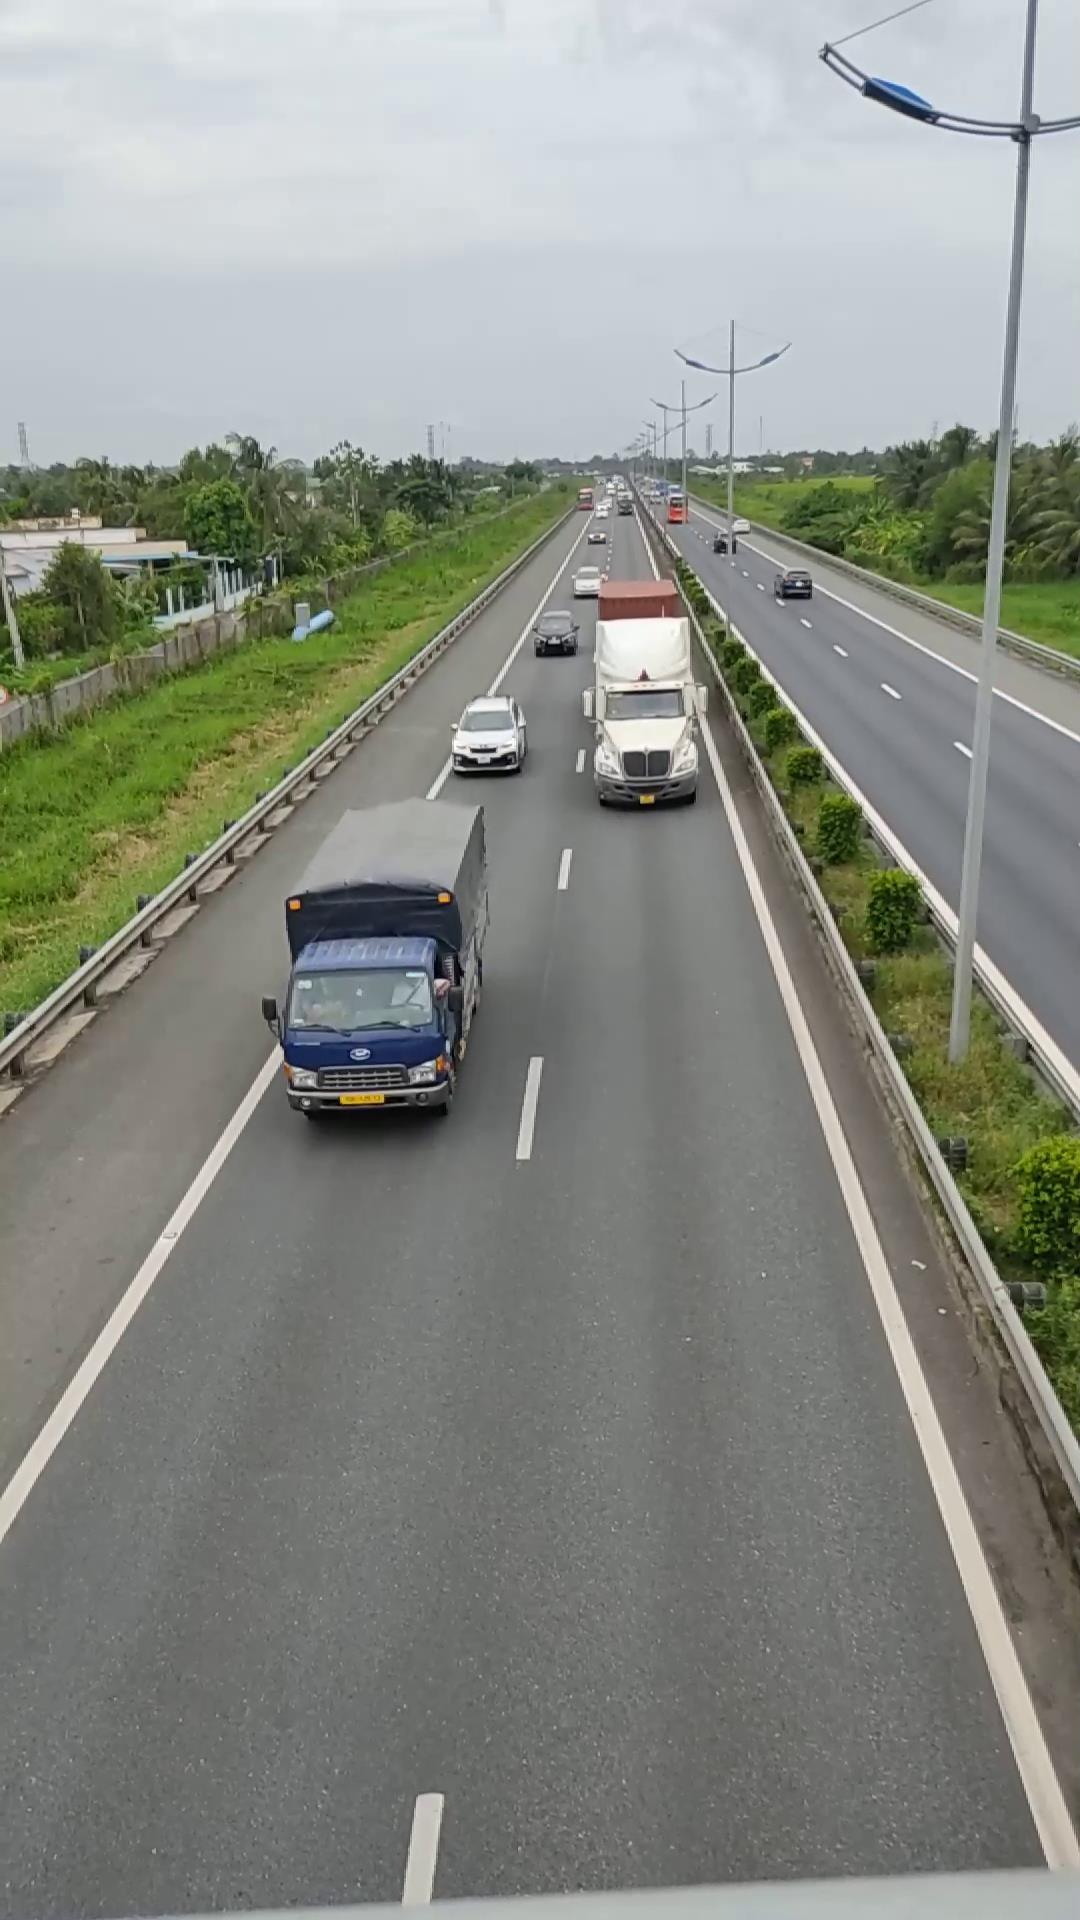car: (448, 695, 529, 774)
container: (579, 571, 705, 806)
truck: (270, 791, 495, 1120)
